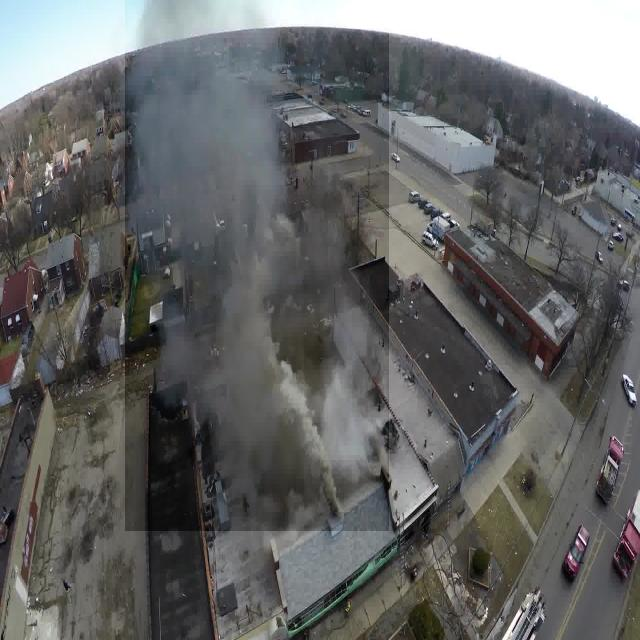Smoke: (125, 0, 389, 531)
